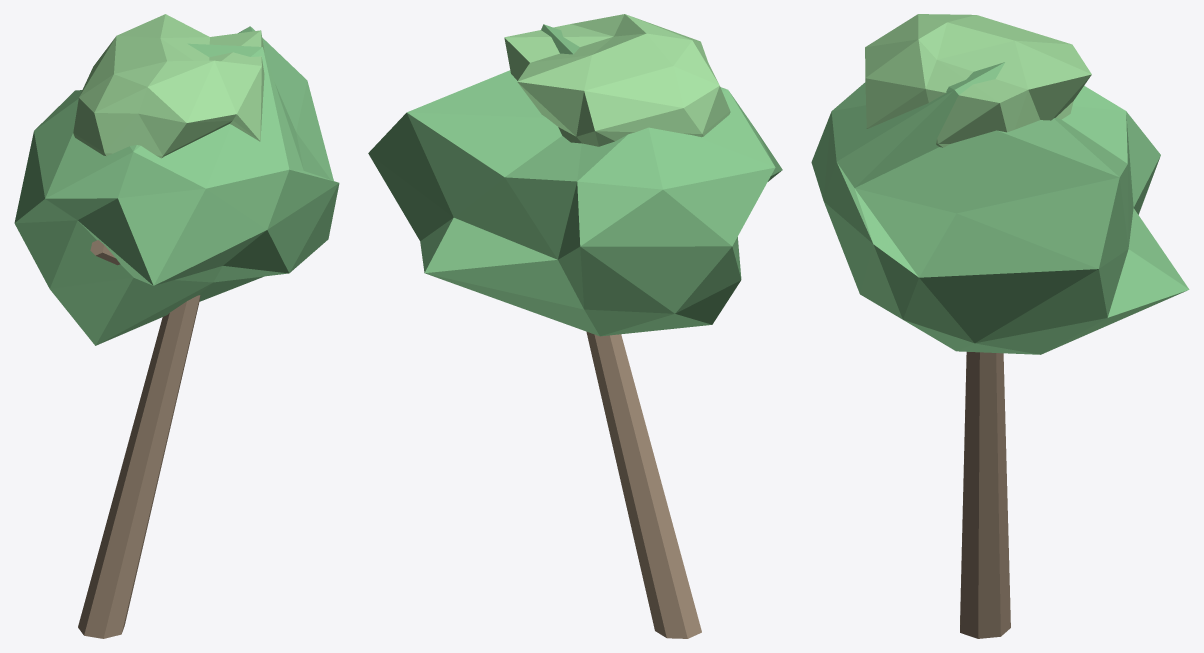
File: ASTX_VEG_UNDERSTORY_A.glb
The picture shows the model from 3 angles, left to right: view 1: azimuth 30°, elevation 25°; view 2: azimuth 150°, elevation 25°; view 3: azimuth 270°, elevation 25°; orthographic projection. The views are drawn at different scales.
Parts seen in each view (by area): view 1: ASTX_VEG_UNDERSTORY_A_crown, ASTX_VEG_UNDERSTORY_A_cap, ASTX_VEG_UNDERSTORY_A_trunk; view 2: ASTX_VEG_UNDERSTORY_A_crown, ASTX_VEG_UNDERSTORY_A_cap, ASTX_VEG_UNDERSTORY_A_trunk; view 3: ASTX_VEG_UNDERSTORY_A_crown, ASTX_VEG_UNDERSTORY_A_cap, ASTX_VEG_UNDERSTORY_A_trunk.
Part boxes in pixels (bbox=[...]): ASTX_VEG_UNDERSTORY_A_crown: bbox=[14, 26, 339, 345]; ASTX_VEG_UNDERSTORY_A_cap: bbox=[73, 14, 264, 158]; ASTX_VEG_UNDERSTORY_A_trunk: bbox=[78, 295, 200, 638]; ASTX_VEG_UNDERSTORY_A_crown: bbox=[368, 24, 782, 336]; ASTX_VEG_UNDERSTORY_A_cap: bbox=[504, 14, 730, 146]; ASTX_VEG_UNDERSTORY_A_trunk: bbox=[586, 331, 701, 638]; ASTX_VEG_UNDERSTORY_A_crown: bbox=[811, 62, 1189, 354]; ASTX_VEG_UNDERSTORY_A_cap: bbox=[865, 14, 1091, 147]; ASTX_VEG_UNDERSTORY_A_trunk: bbox=[960, 352, 1010, 638].
Bounding box in the file's own units: 2.72 × 4.44 × 2.4.
